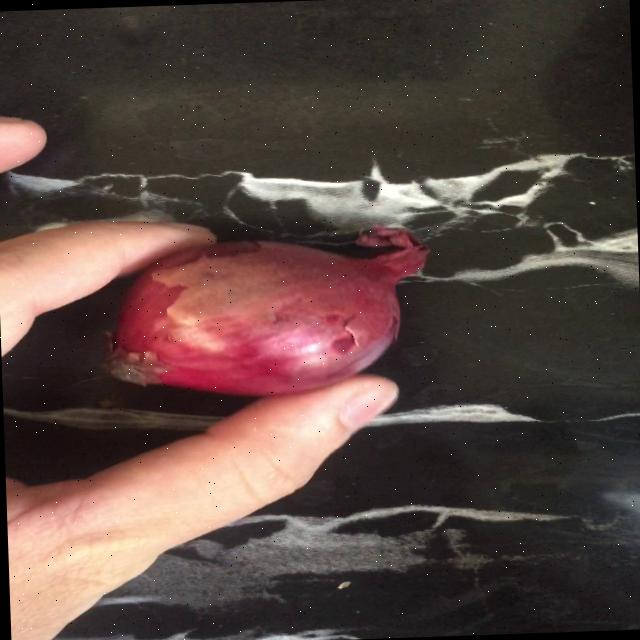Onion: (106, 226, 428, 396)
